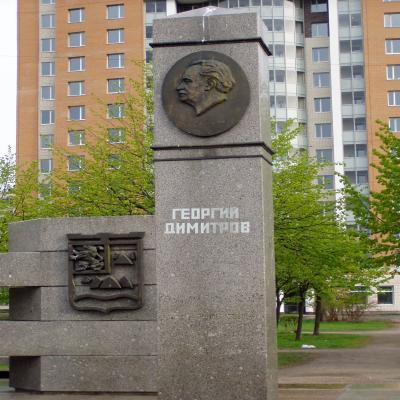sculpture: (0, 7, 280, 400)
